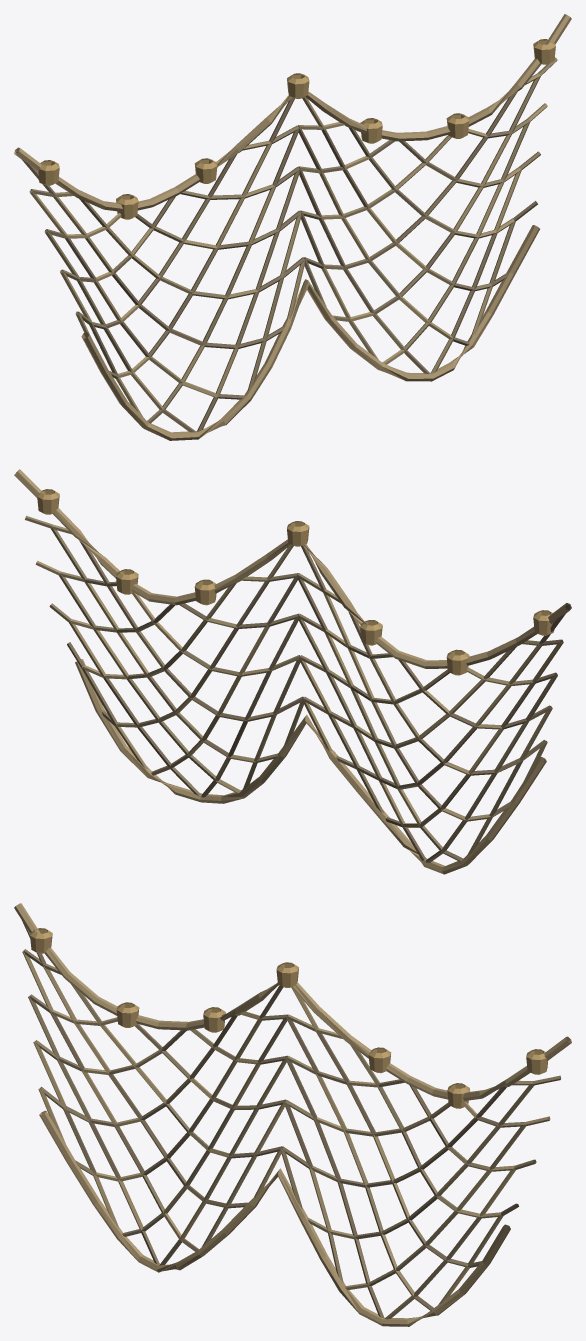
File: hanging_seine.glb
3 renders of one model, top to bottom at view 1: azimuth 30°, elevation 25°; view 2: azimuth 150°, elevation 25°; view 3: azimuth 330°, elevation 25°, orthographic.
Visible parts, largest first — view 1: hanging_seine; view 2: hanging_seine; view 3: hanging_seine.
Boxes of the visible parts, x1,y1,x2,y2 form: hanging_seine: (14,14,571,440); hanging_seine: (14,469,571,874); hanging_seine: (14,903,571,1326).
Size of the model in its own units: 2.62 by 1.46 by 0.2923.
